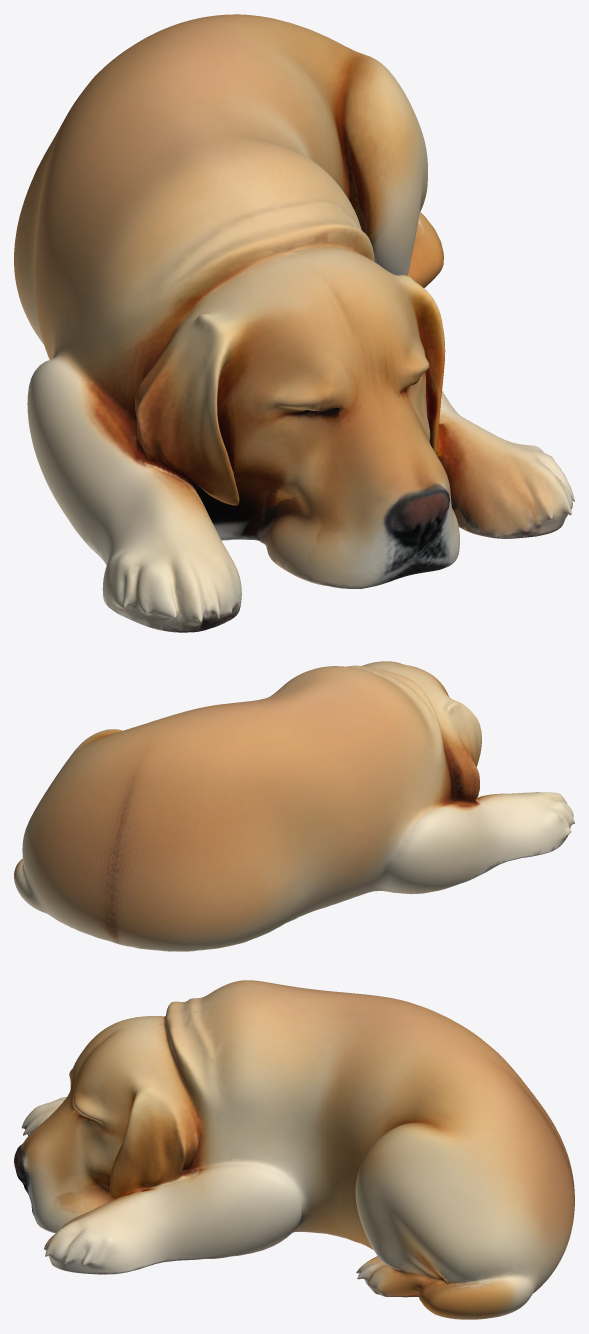
The model's file is dog_lying_down.glb.
3 renders of one model, top to bottom at view 1: azimuth 30°, elevation 25°; view 2: azimuth 150°, elevation 25°; view 3: azimuth 270°, elevation 25°, orthographic. The views are drawn at different scales.
Visible parts, largest first — view 1: model; view 2: model; view 3: model.
Boxes of the visible parts, x1,y1,x2,y2 form: model: (14,14,574,632); model: (14,661,574,951); model: (14,980,574,1319).
Size of the model in its own units: 1.6 by 0.8108 by 1.9.
Materials: 1 (1 with a texture image).
